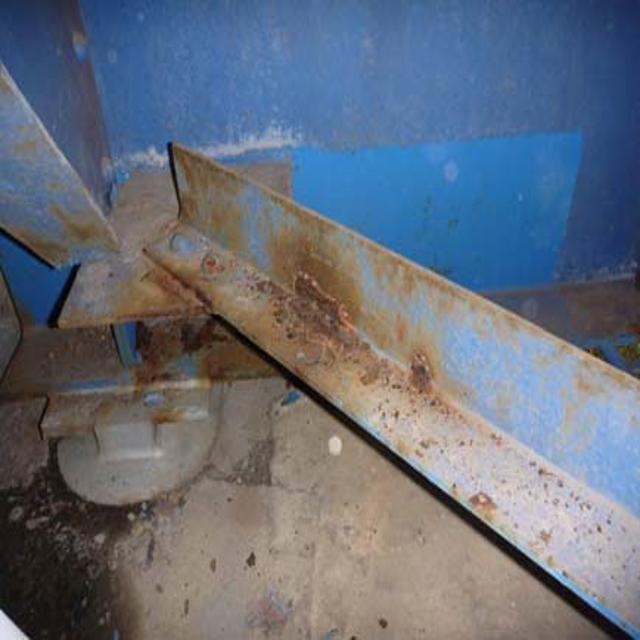spalling: (38, 146, 403, 433)
